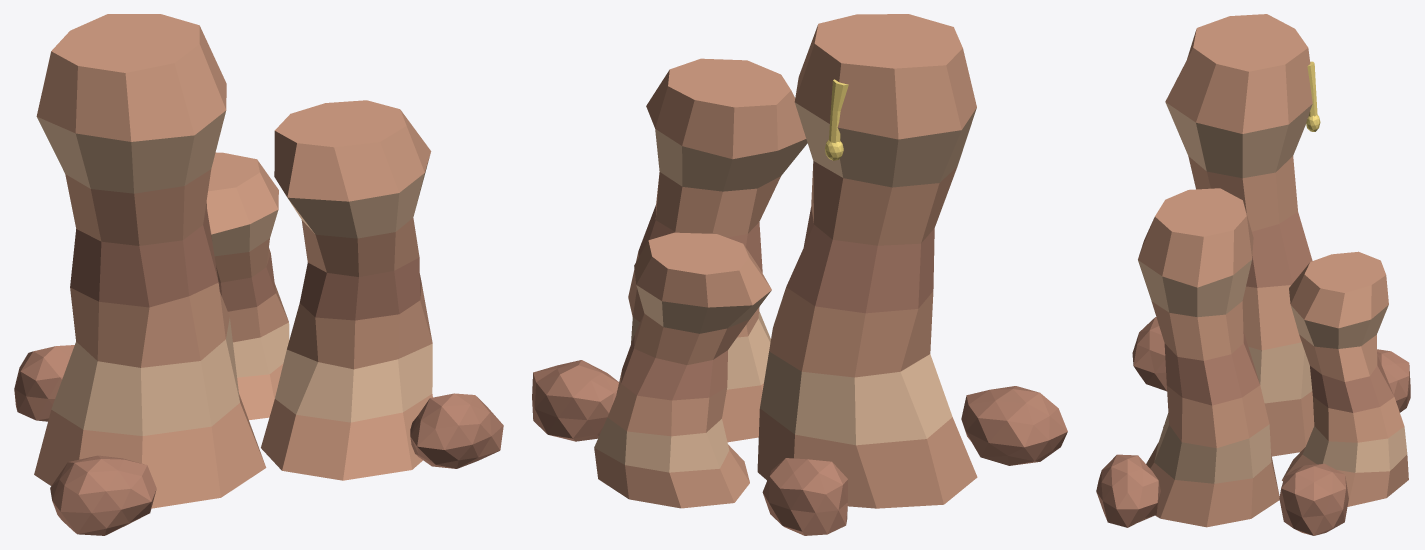
Rendered from Kit_LM_RockSpire.fbx.
3 renders of one model, left to right at view 1: azimuth 30°, elevation 25°; view 2: azimuth 150°, elevation 25°; view 3: azimuth 270°, elevation 25°, orthographic. The views are drawn at different scales.
Parts seen in each view (by area): view 1: Kit_LM_RockSpire; view 2: Kit_LM_RockSpire; view 3: Kit_LM_RockSpire.
Part boxes in pixels (x1=…): Kit_LM_RockSpire: x1=14, y1=14, x2=503, y2=535; Kit_LM_RockSpire: x1=532, y1=14, x2=1067, y2=535; Kit_LM_RockSpire: x1=1096, y1=14, x2=1410, y2=535.
Bounding box in the file's own units: 3.87 × 3.6 × 2.79.
